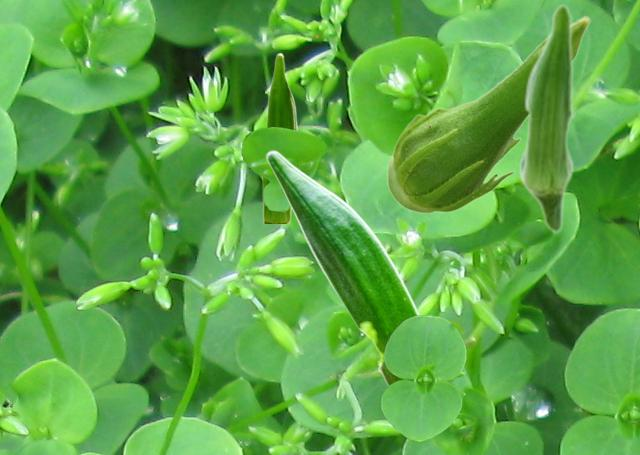okra: (386, 15, 590, 213), (265, 150, 421, 385), (518, 3, 574, 233), (262, 52, 297, 222)
